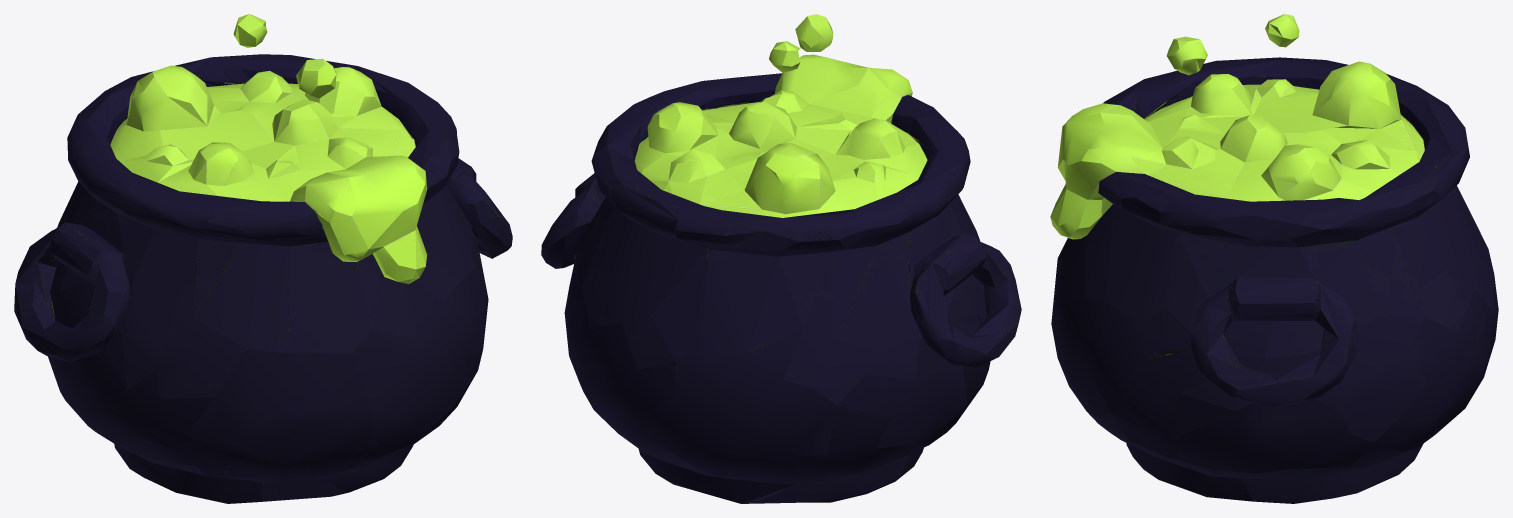
File: cauldron.glb
3 views of the same model, side by side, from view 1: azimuth 30°, elevation 25°; view 2: azimuth 150°, elevation 25°; view 3: azimuth 270°, elevation 25° (orthographic). The views are drawn at different scales.
Bounding box in the file's own units: 1.88 × 1.71 × 1.63.
1 material, 1 textured.
